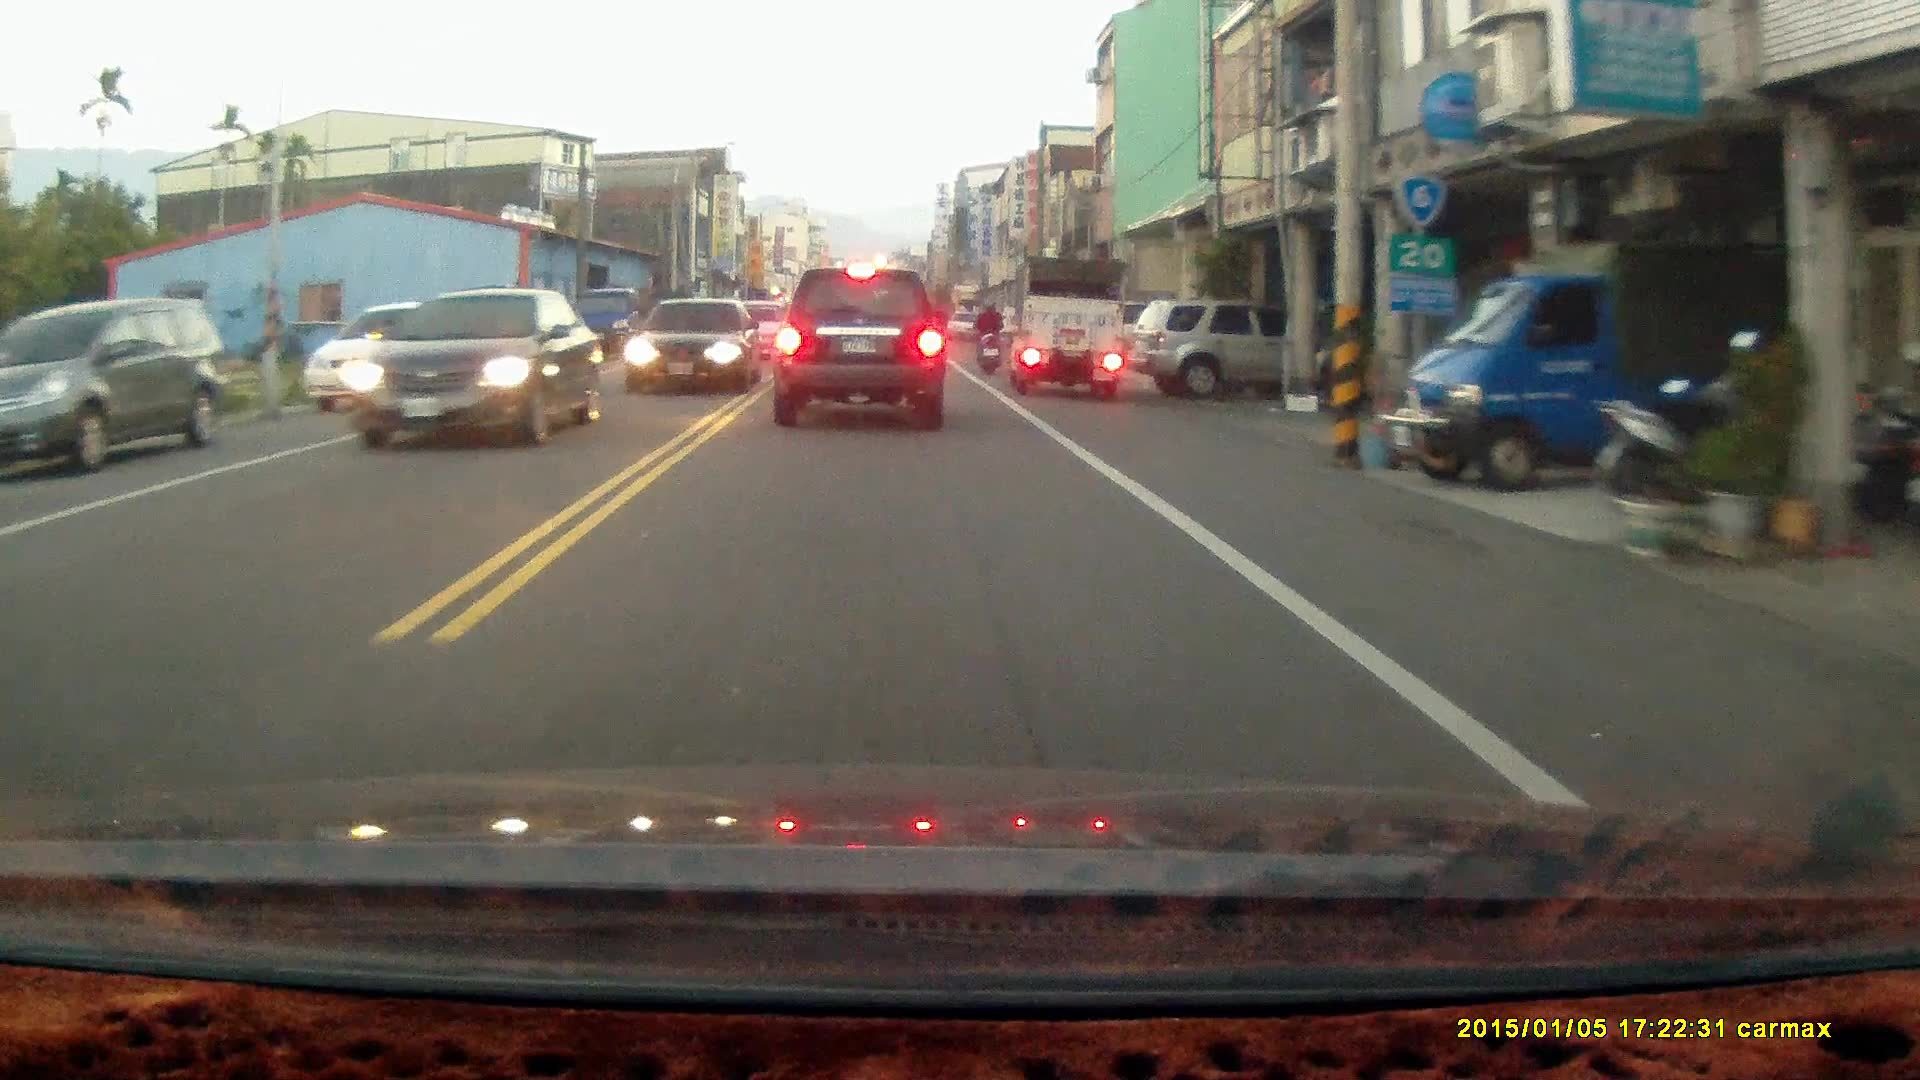rider: (969, 295, 1005, 378)
vehicle: (1399, 196, 1784, 489), (5, 294, 239, 478), (345, 287, 604, 448), (769, 262, 948, 429), (306, 300, 498, 425), (1132, 297, 1293, 402), (1018, 249, 1128, 390), (624, 298, 757, 393), (574, 285, 673, 364)
